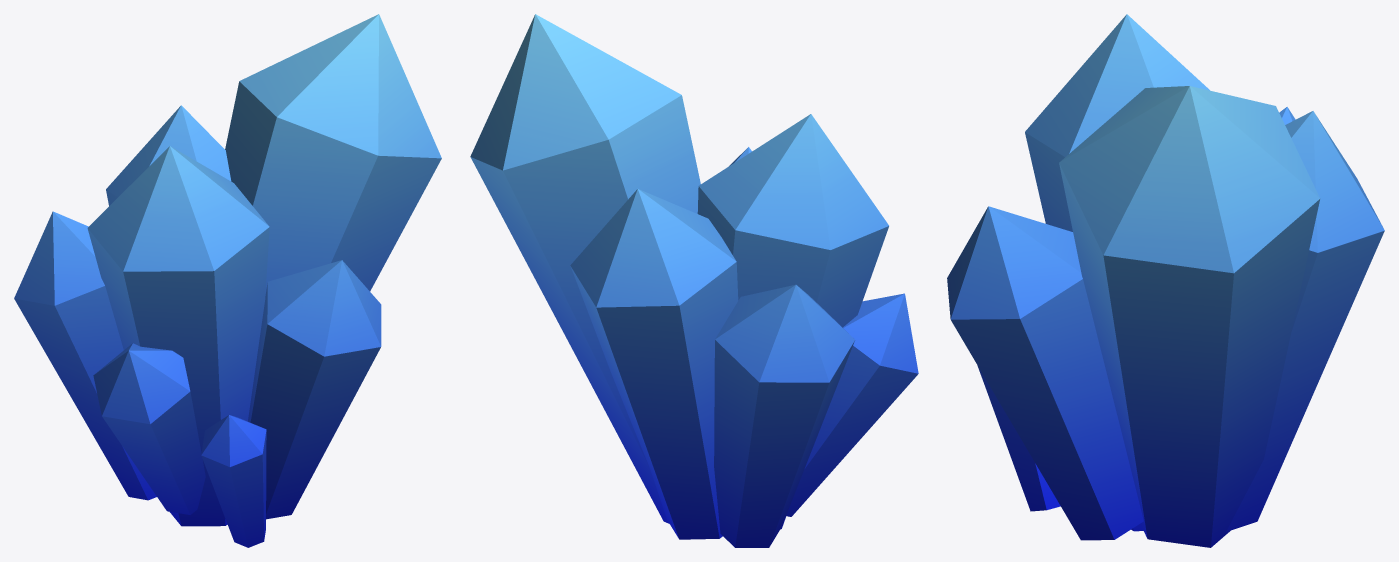
The model's file is Crystal_01A.glb.
The picture shows the model from 3 angles, left to right: view 1: azimuth 30°, elevation 25°; view 2: azimuth 150°, elevation 25°; view 3: azimuth 270°, elevation 25°; orthographic projection. The views are drawn at different scales.
Visible parts, largest first — view 1: Crystal_01A; view 2: Crystal_01A; view 3: Crystal_01A.
Boxes of the visible parts, x1,y1,x2,y2 form: Crystal_01A: (14, 14, 441, 547); Crystal_01A: (470, 14, 918, 547); Crystal_01A: (947, 14, 1384, 547).
Bounding box in the file's own units: 0.5488 × 0.6425 × 0.4667.
Materials: 1 (1 with a texture image).
